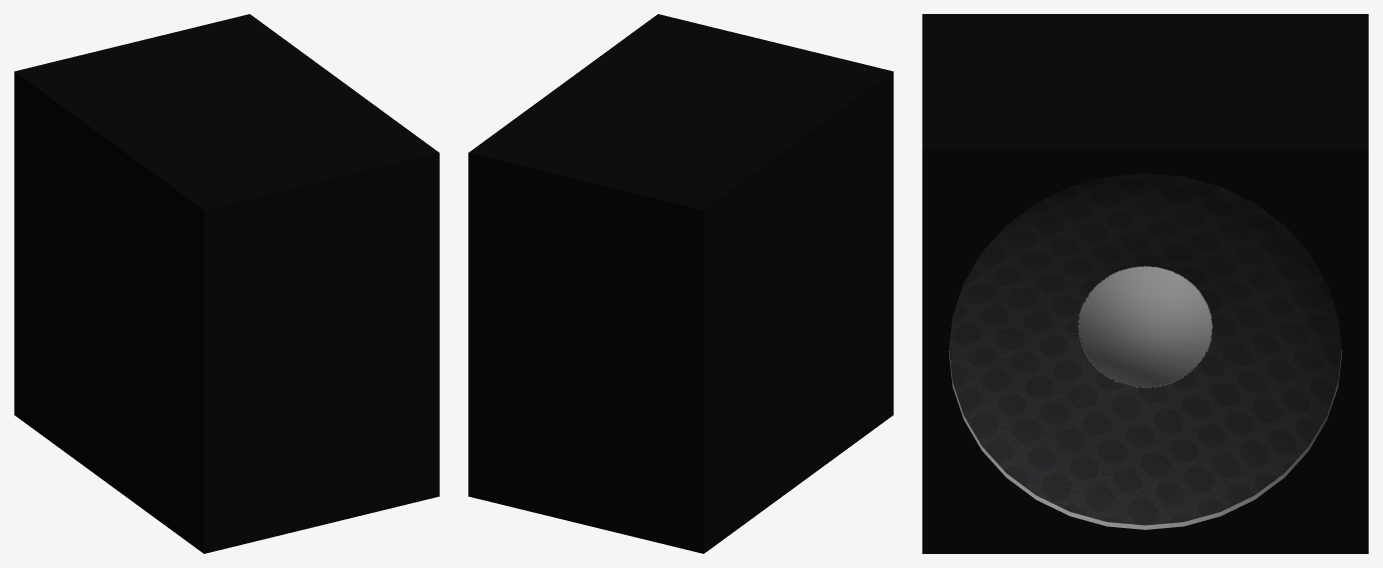
The model's file is Elec_speaker.fbx.
The picture shows the model from 3 angles, left to right: view 1: azimuth 30°, elevation 25°; view 2: azimuth 150°, elevation 25°; view 3: azimuth 270°, elevation 25°; orthographic projection. The views are drawn at different scales.
Visible parts, largest first — view 1: Cube; view 2: Cube; view 3: Cube.
Part boxes in pixels (x1,y1,x2,y2): Cube: (14, 14, 439, 553); Cube: (468, 14, 893, 553); Cube: (922, 14, 1368, 553).
Size of the model in its own units: 143 by 200 by 200.
1 material, 1 textured.
